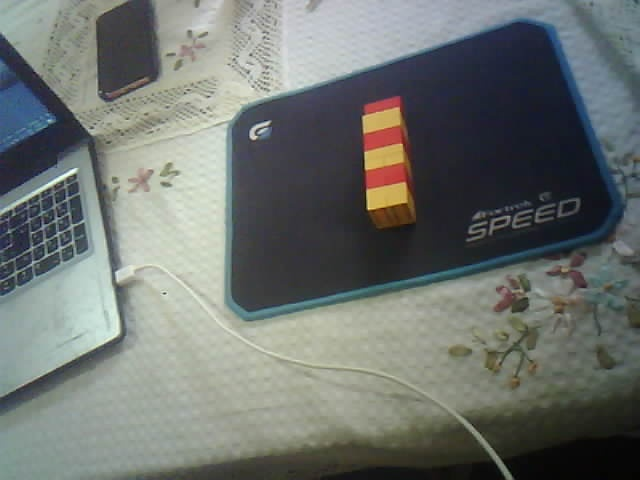lego: (360, 94, 417, 229)
